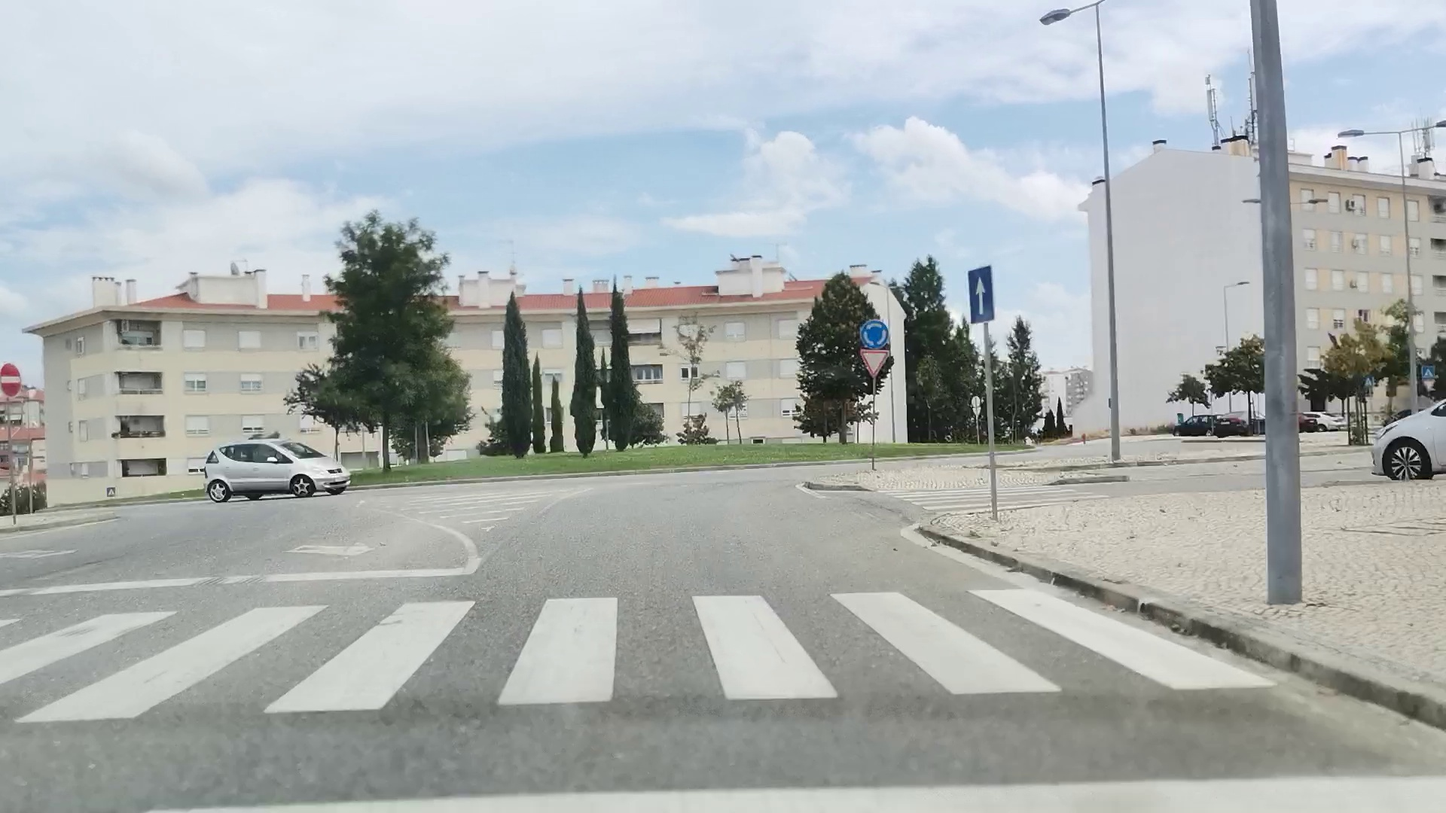Stairs: (0, 588, 1277, 724)
